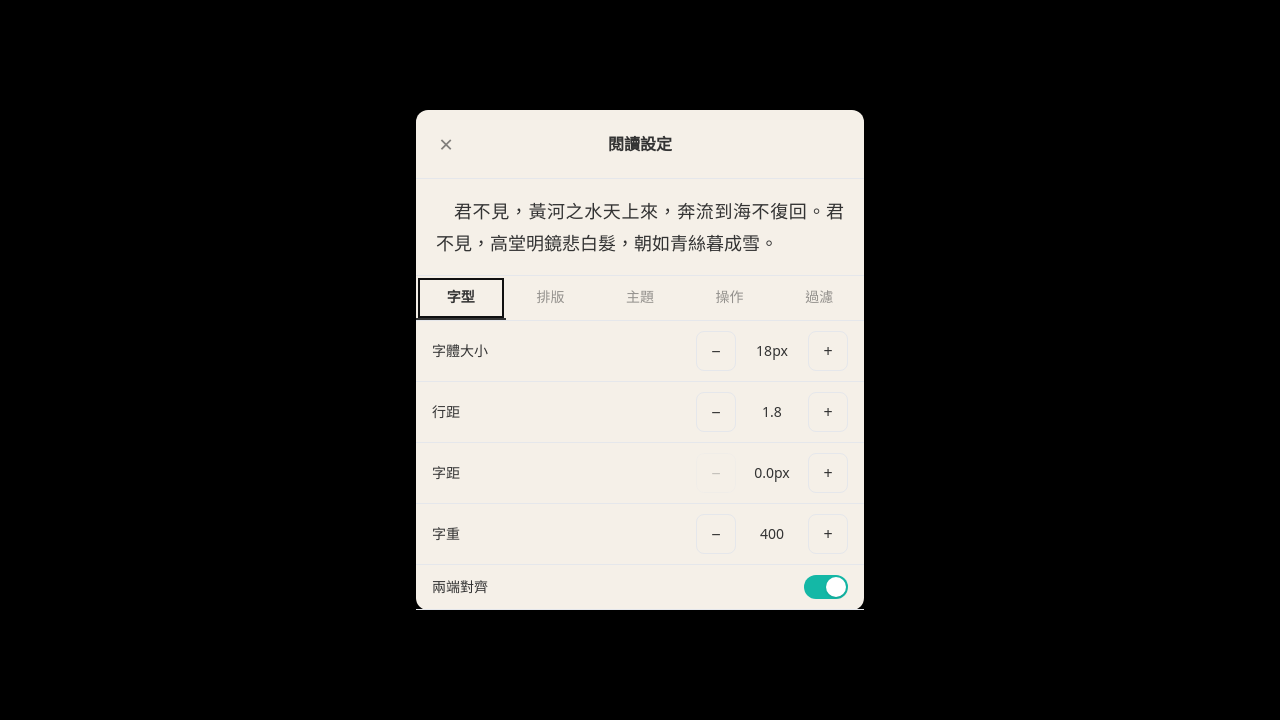
Test: ReaderSettingsPanel › switches tabs without scrolling — clicking 排版 shows 段首縮進
This screenshot has width=1280, height=720.
Click the tab with test id "settings-tab-layout". click: {"x": 550, "y": 298}
box: [506,276,595,320]
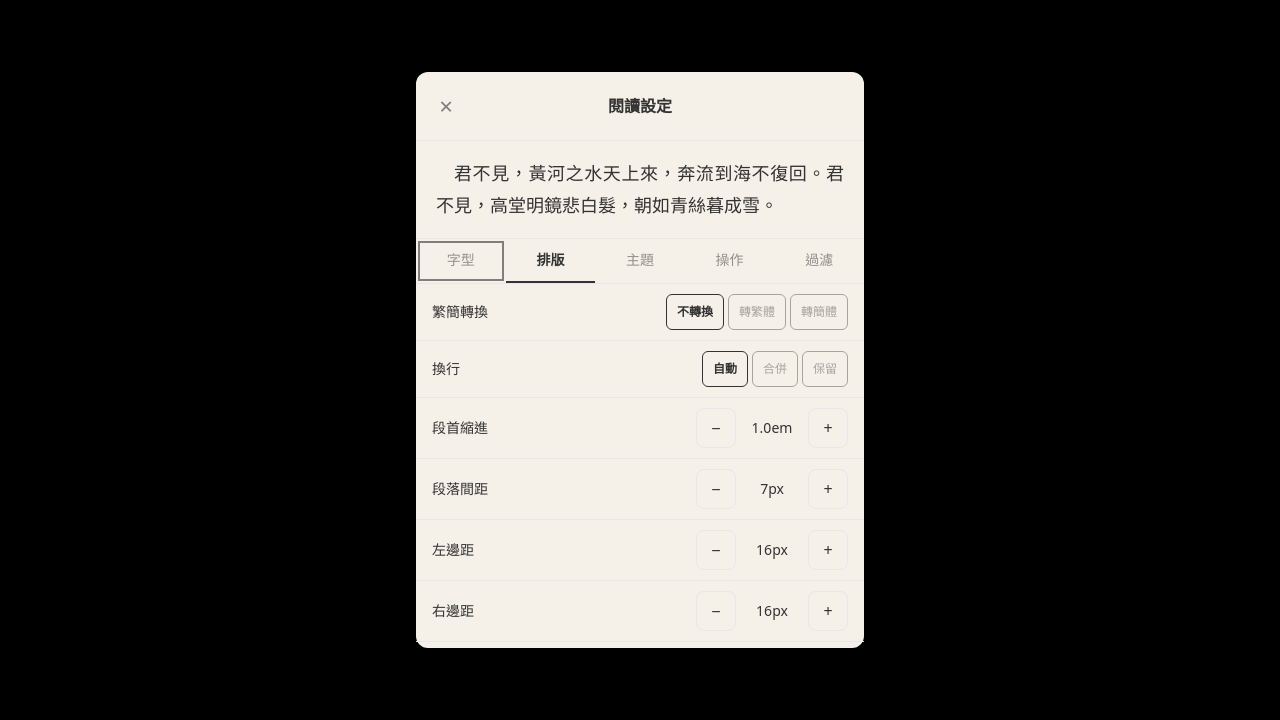
Result: the text "段首縮進" is shown at [432,418,488,437]
Result: the text "字體大小" is gone
